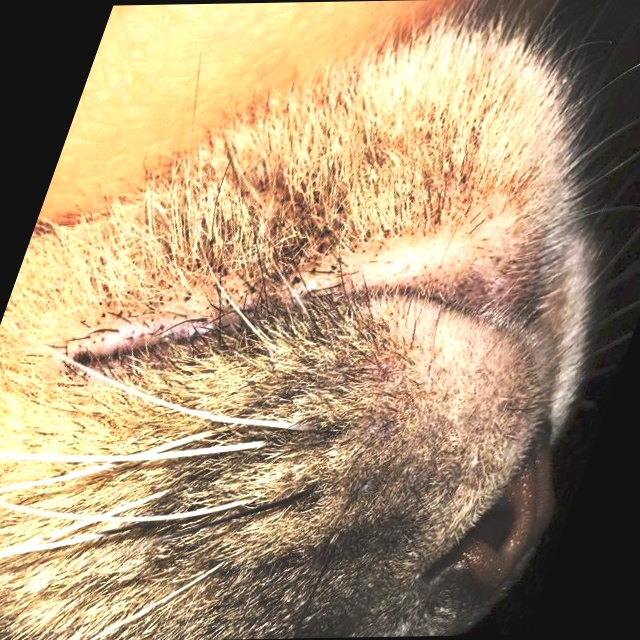acne: (71, 177, 377, 323)
